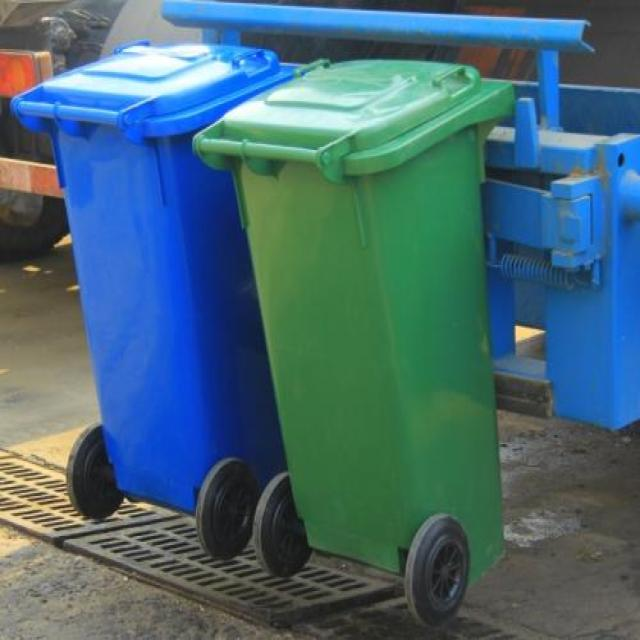garbage_bin: (190, 55, 514, 587), (8, 40, 294, 516)
